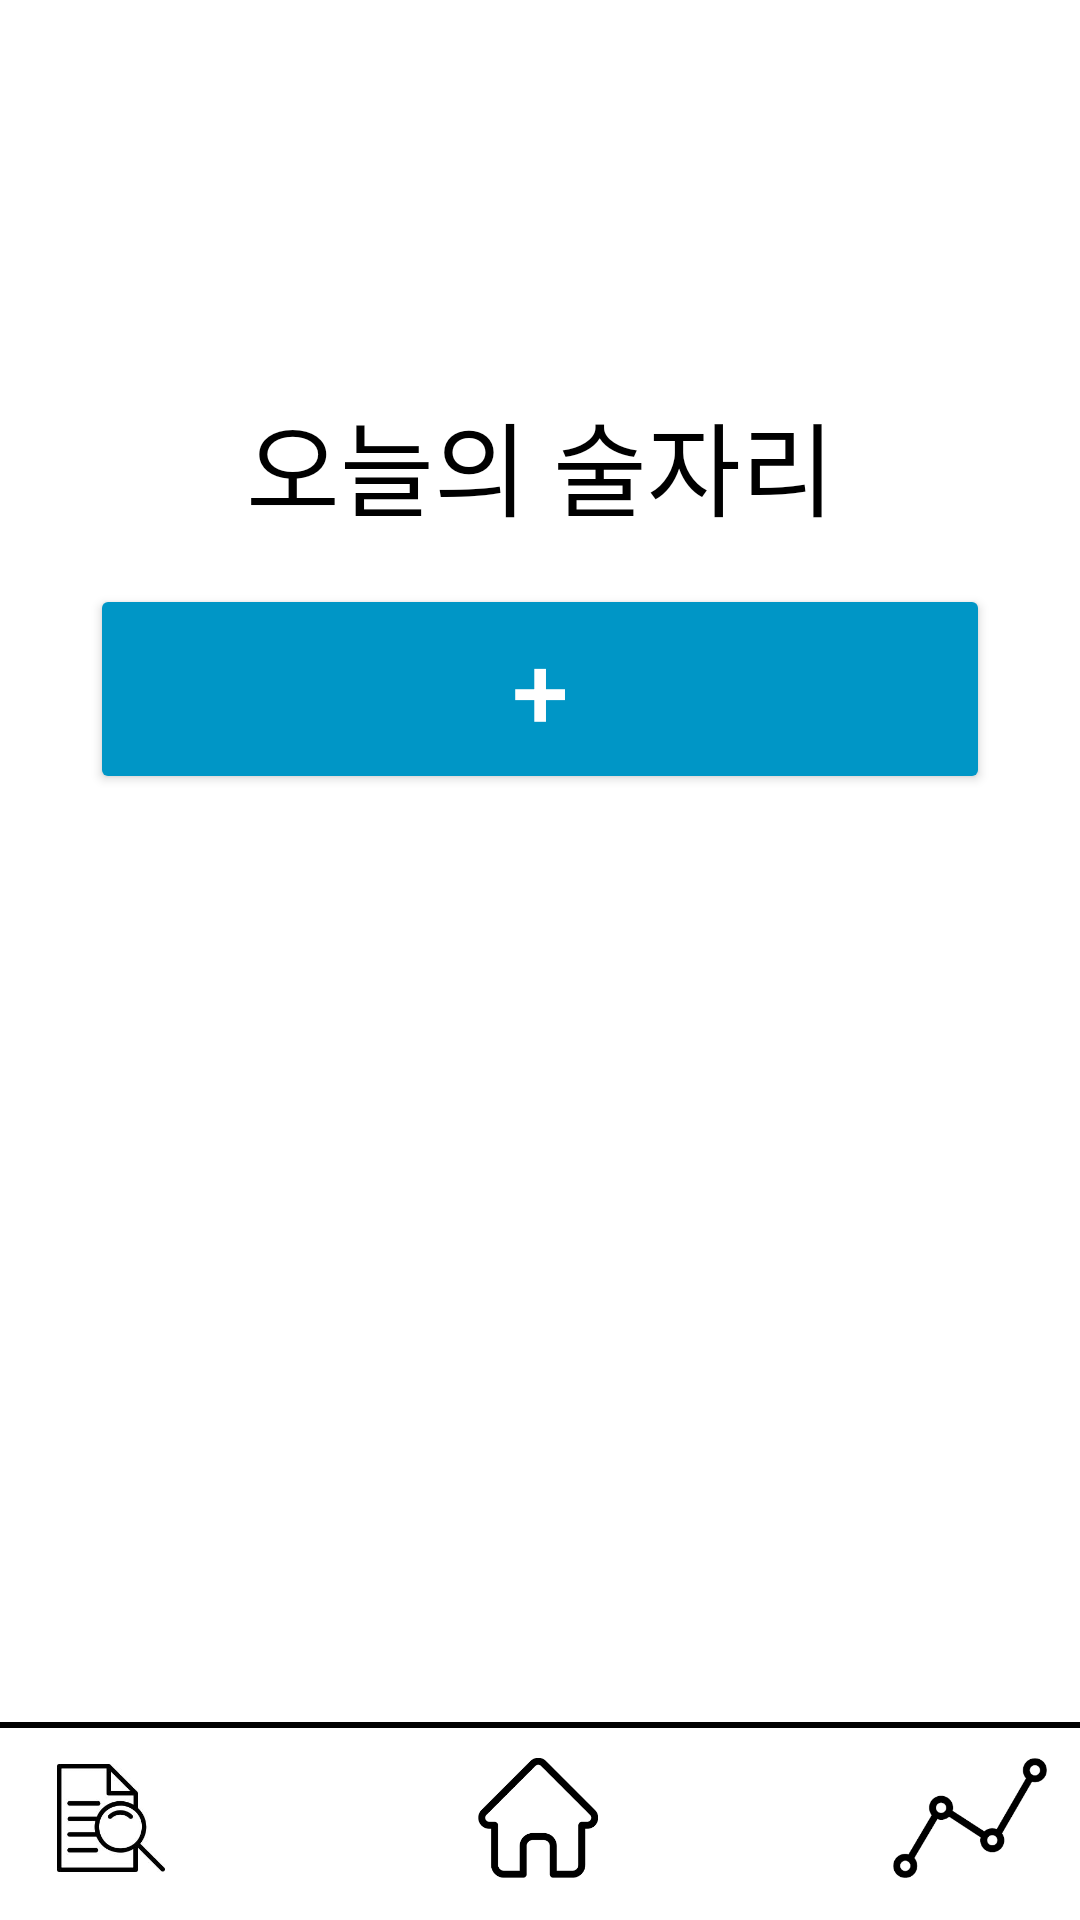

Screen size 1080×1920. Icon name, then its center in pixels as point (x, y):
메인으로 이동: point (538, 1818)
주량 통계: point (970, 1818)
